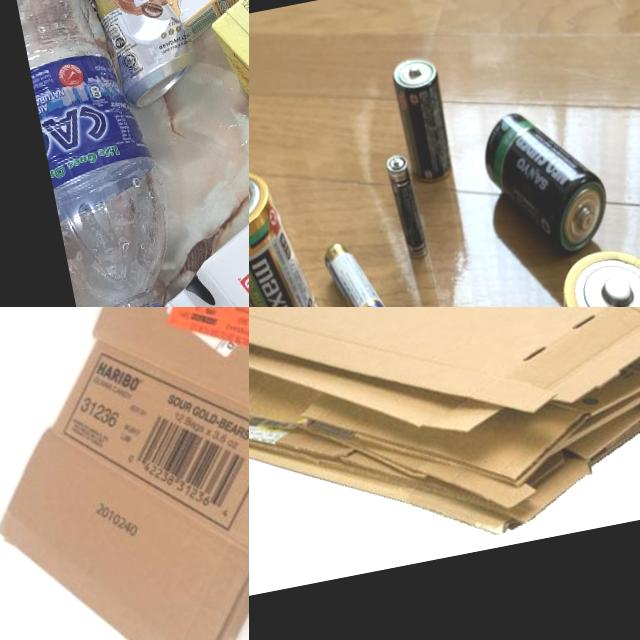bateria: (476, 96, 618, 261), (386, 50, 464, 190), (249, 161, 320, 307), (378, 144, 436, 268), (314, 229, 403, 307)
caixinha: (117, 15, 249, 307), (211, 0, 249, 153)
garrafa plástica: (0, 0, 175, 307)
lata: (42, 0, 204, 119)
papelão: (249, 307, 640, 598), (0, 307, 249, 640)
tampa plástica: (191, 300, 241, 307), (100, 305, 171, 307)
